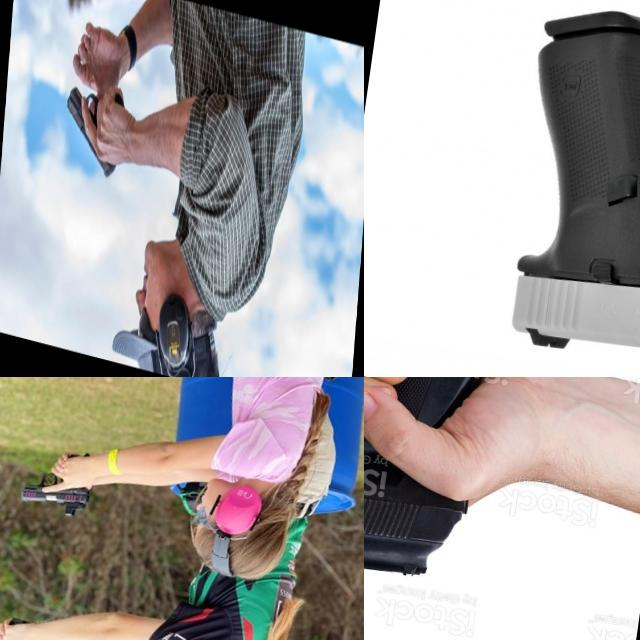handgun: (491, 0, 640, 377), (364, 377, 571, 595), (58, 75, 127, 186), (13, 438, 100, 522), (0, 601, 53, 640)
